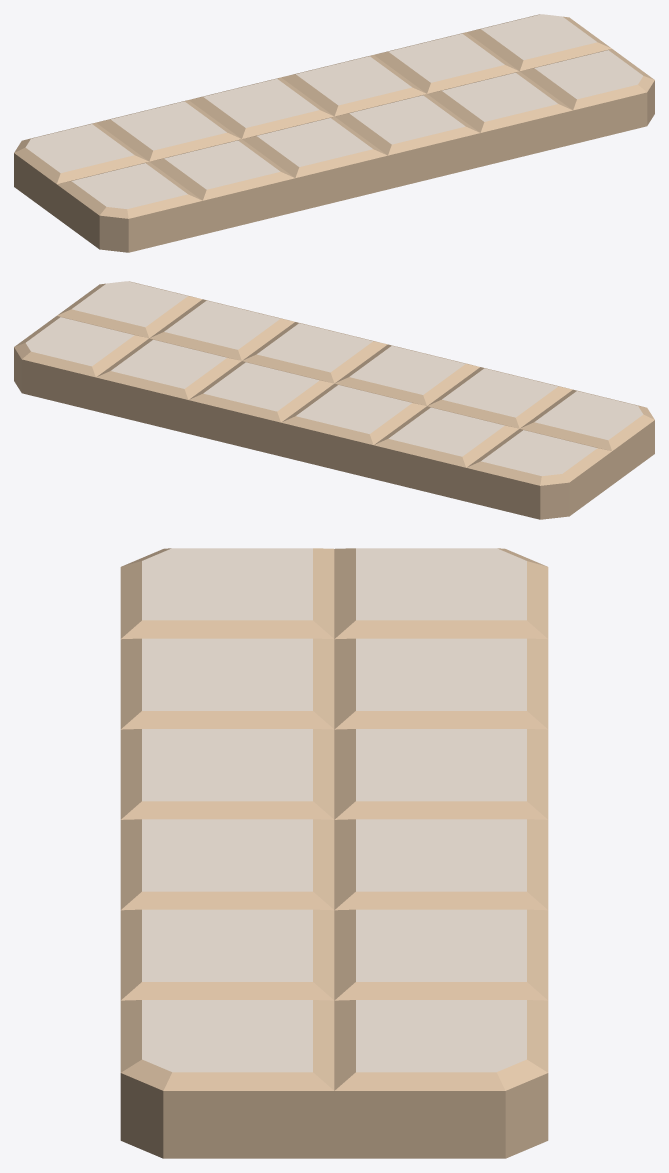
Rendered from Puzzle_Sliding_Platform_1x3.fbx.
3 views of the same model, one above another, from view 1: azimuth 30°, elevation 25°; view 2: azimuth 150°, elevation 25°; view 3: azimuth 270°, elevation 25° (orthographic). The views are drawn at different scales.
Parts seen in each view (by area): view 1: Sandstone_Trim.Sandstone_Trim.Sandstone_Trim.Sandstone_Trim., Sandstone_Floor.Sandstone_Floor.Sandstone_Floor.Sandstone_Fl; view 2: Sandstone_Trim.Sandstone_Trim.Sandstone_Trim.Sandstone_Trim., Sandstone_Floor.Sandstone_Floor.Sandstone_Floor.Sandstone_Fl; view 3: Sandstone_Floor.Sandstone_Floor.Sandstone_Floor.Sandstone_Fl, Sandstone_Trim.Sandstone_Trim.Sandstone_Trim.Sandstone_Trim..
Boxes of the visible parts, x1,y1,x2,y2 form: Sandstone_Trim.Sandstone_Trim.Sandstone_Trim.Sandstone_Trim.: (14, 14, 654, 252); Sandstone_Floor.Sandstone_Floor.Sandstone_Floor.Sandstone_Fl: (25, 14, 642, 208); Sandstone_Trim.Sandstone_Trim.Sandstone_Trim.Sandstone_Trim.: (14, 281, 654, 519); Sandstone_Floor.Sandstone_Floor.Sandstone_Floor.Sandstone_Fl: (26, 281, 643, 475); Sandstone_Floor.Sandstone_Floor.Sandstone_Floor.Sandstone_Fl: (142, 548, 526, 1072); Sandstone_Trim.Sandstone_Trim.Sandstone_Trim.Sandstone_Trim.: (120, 548, 548, 1158).
Bounding box in the file's own units: 3 × 0.3 × 1.
